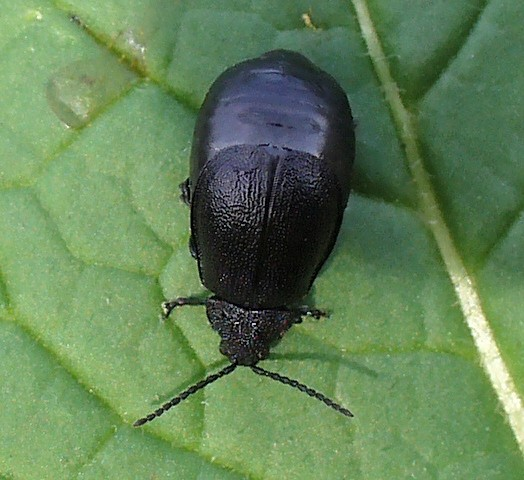Galeruca_tanaceti: (128, 46, 359, 429)
